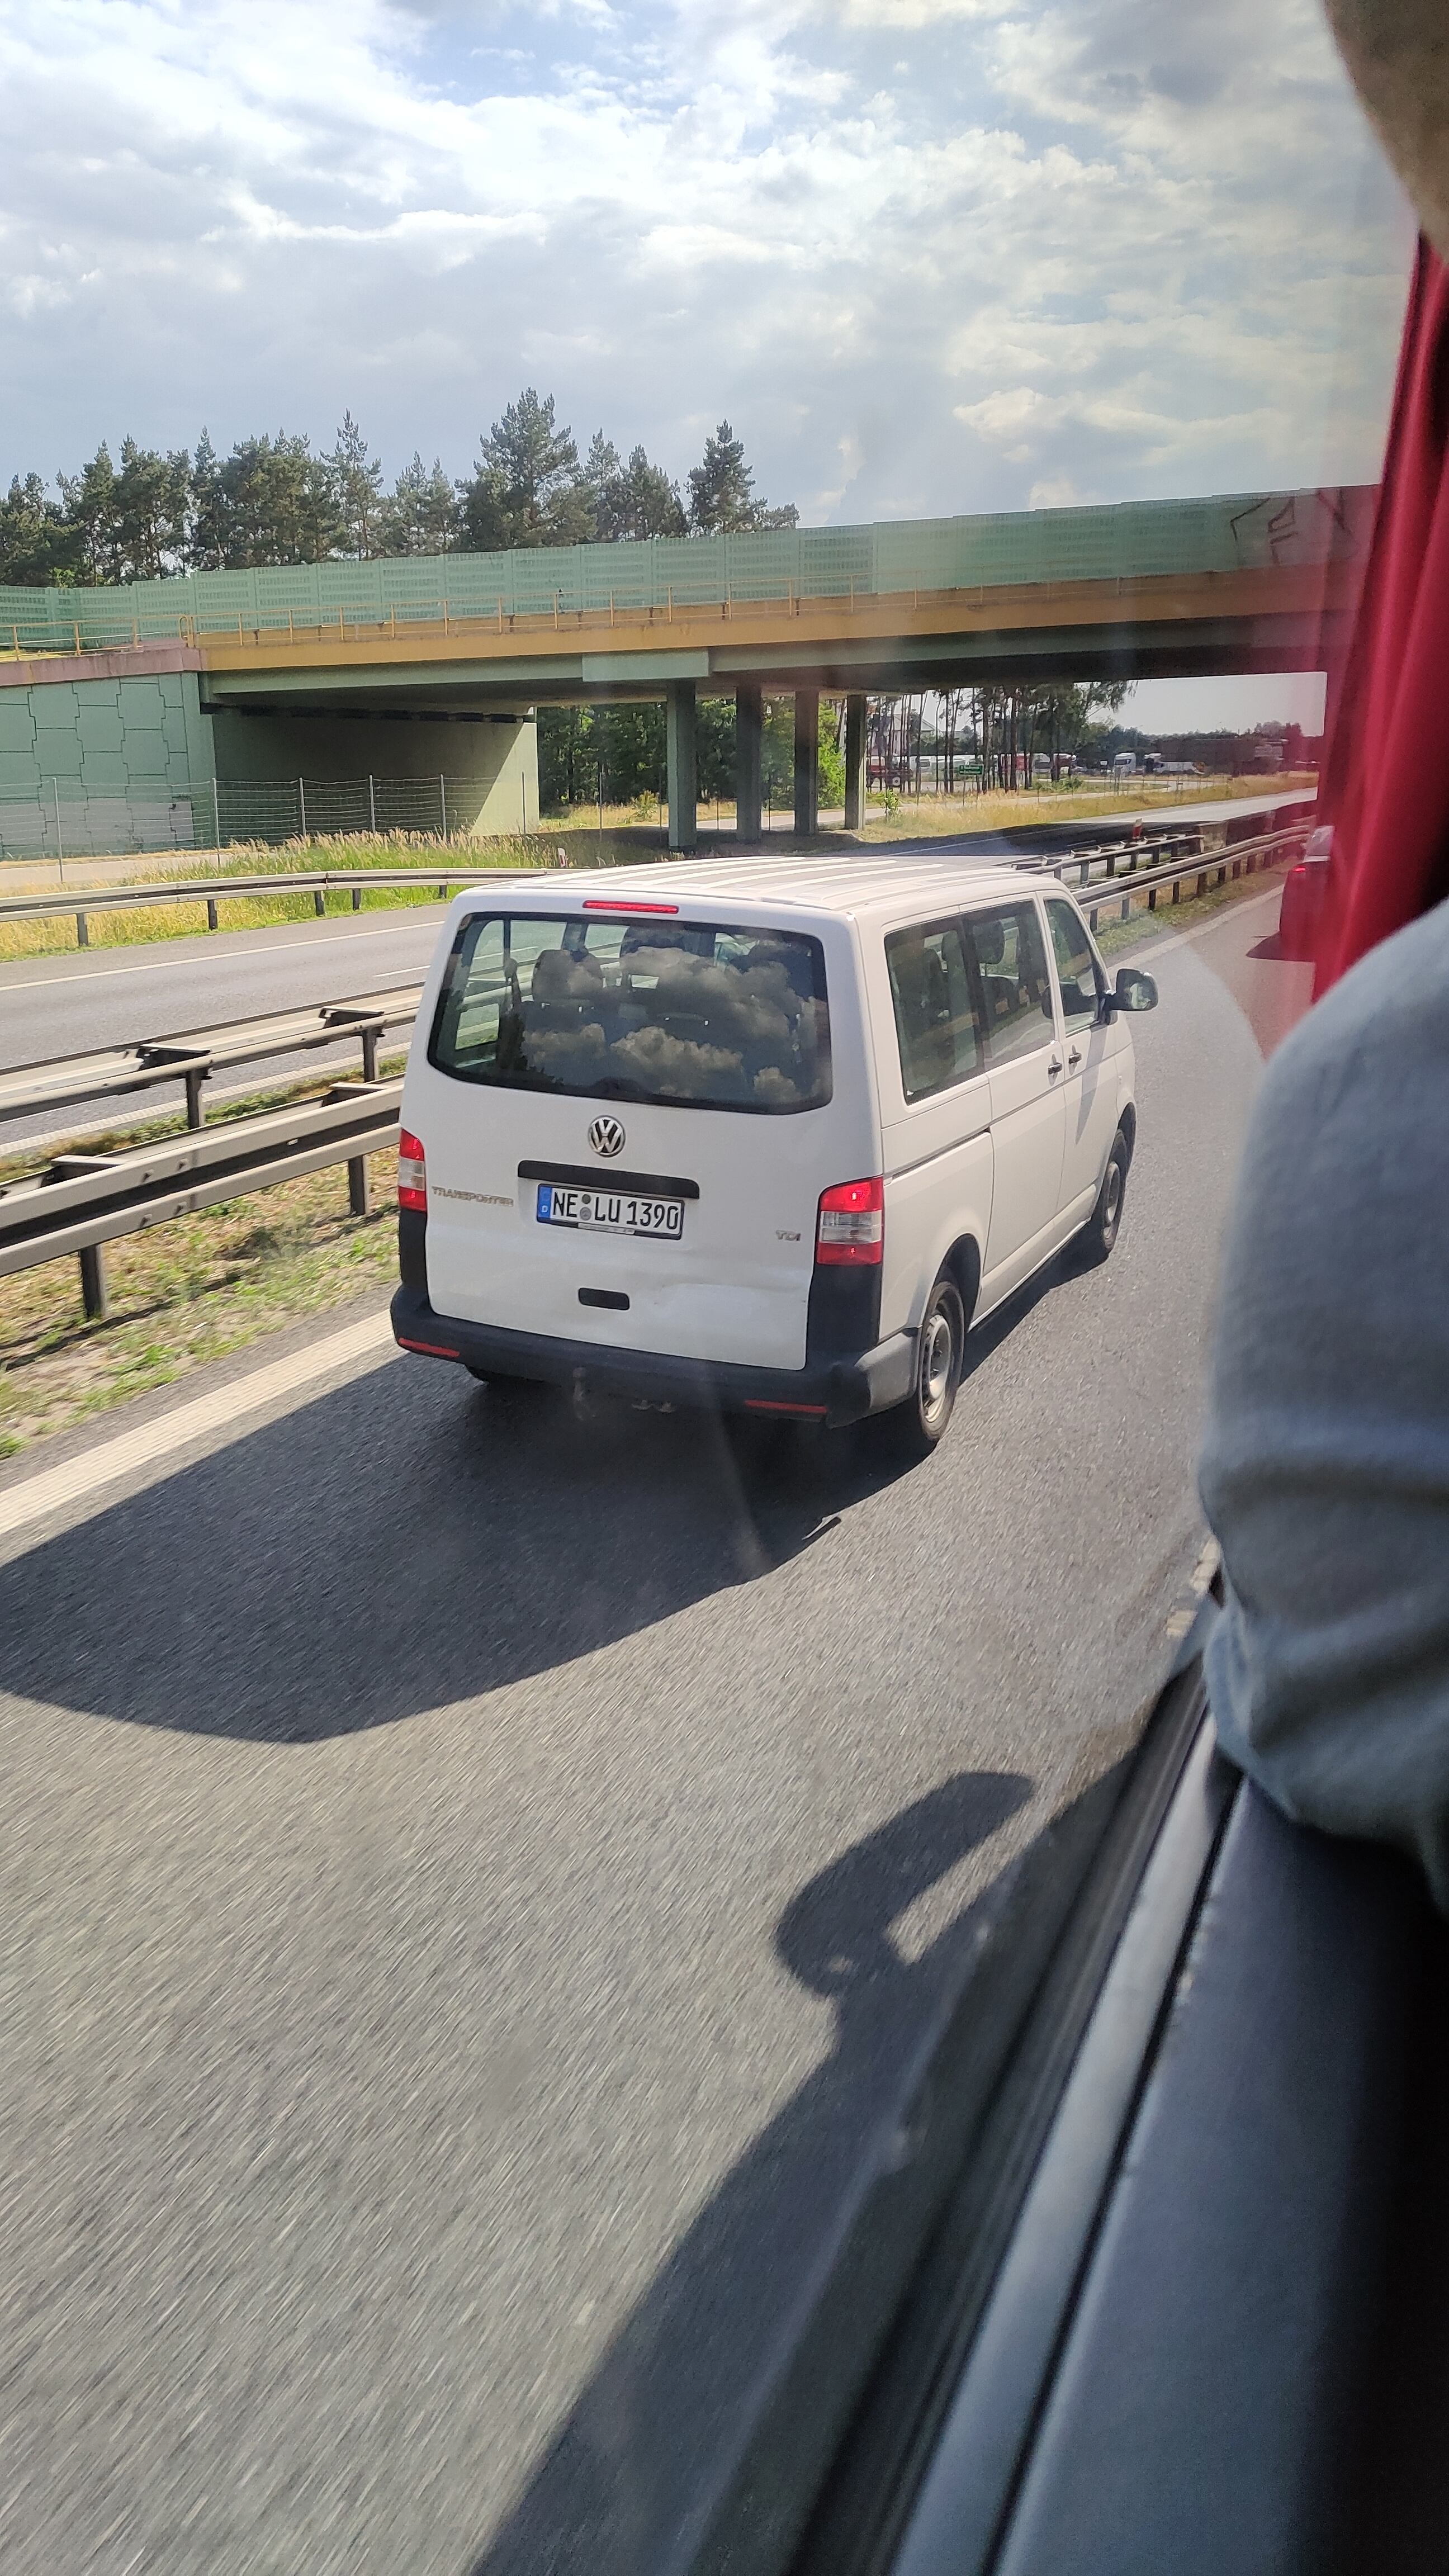number_plate: (537, 1185, 684, 1243)
